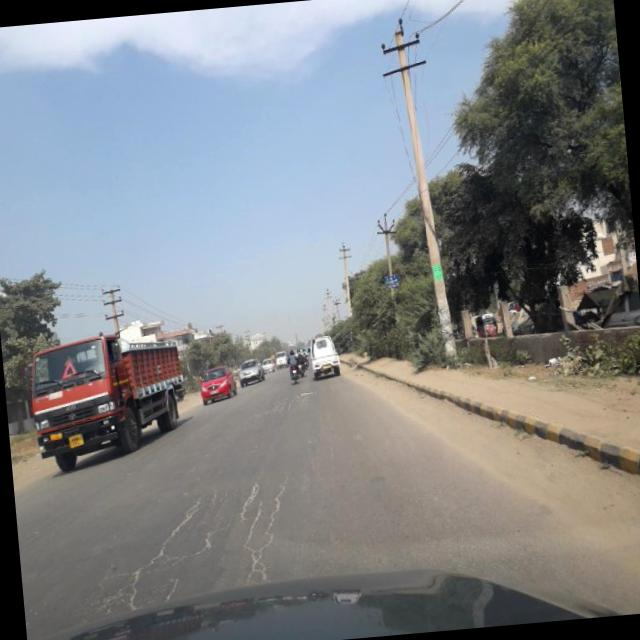pothole: (108, 478, 217, 604), (220, 469, 302, 589)
